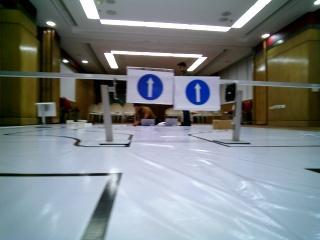straight: (123, 65, 175, 103), (176, 73, 217, 112)
